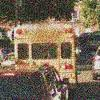buses: (12, 22, 80, 86)
